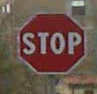stop: (14, 9, 88, 76)
